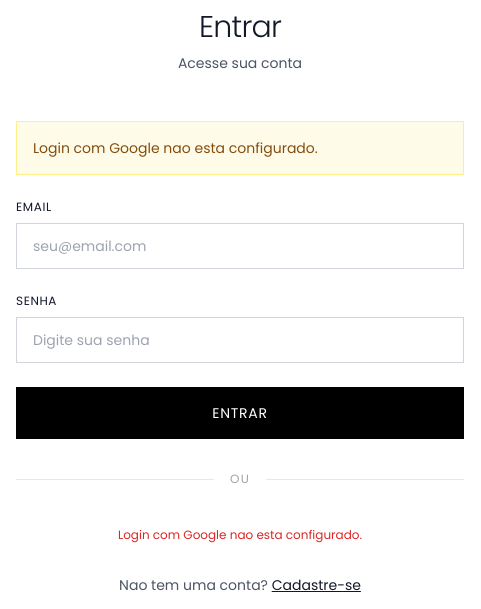
it: Login Component › Estados › deve exibir mensagem de erro para credenciais inválidas
This screenshot has width=481, height=609.
Type "teste@email.com" into the field labelled "Email" at (240, 246), box left=16, top=223, right=464, bottom=269
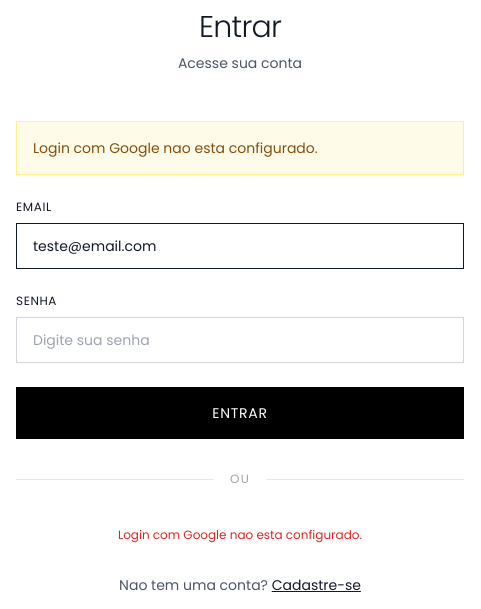
Type "senha-errada" into the password field labelled "Senha" at (240, 340), box left=16, top=317, right=464, bottom=363
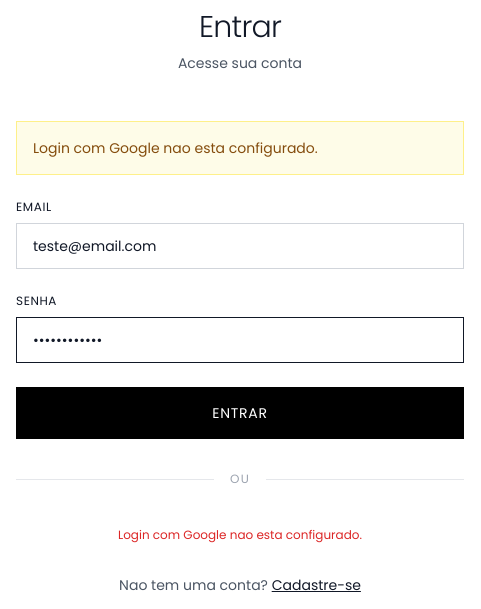
Click the button "Entrar" at (240, 413), box left=16, top=387, right=464, bottom=439
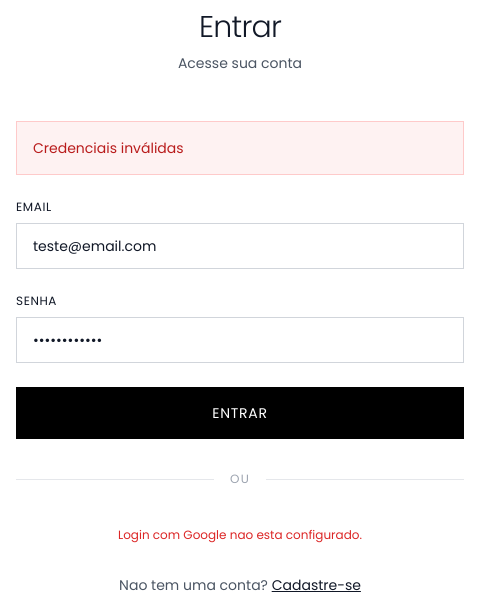
Now the text "Credenciais inválidas" is shown, box left=16, top=121, right=464, bottom=175
